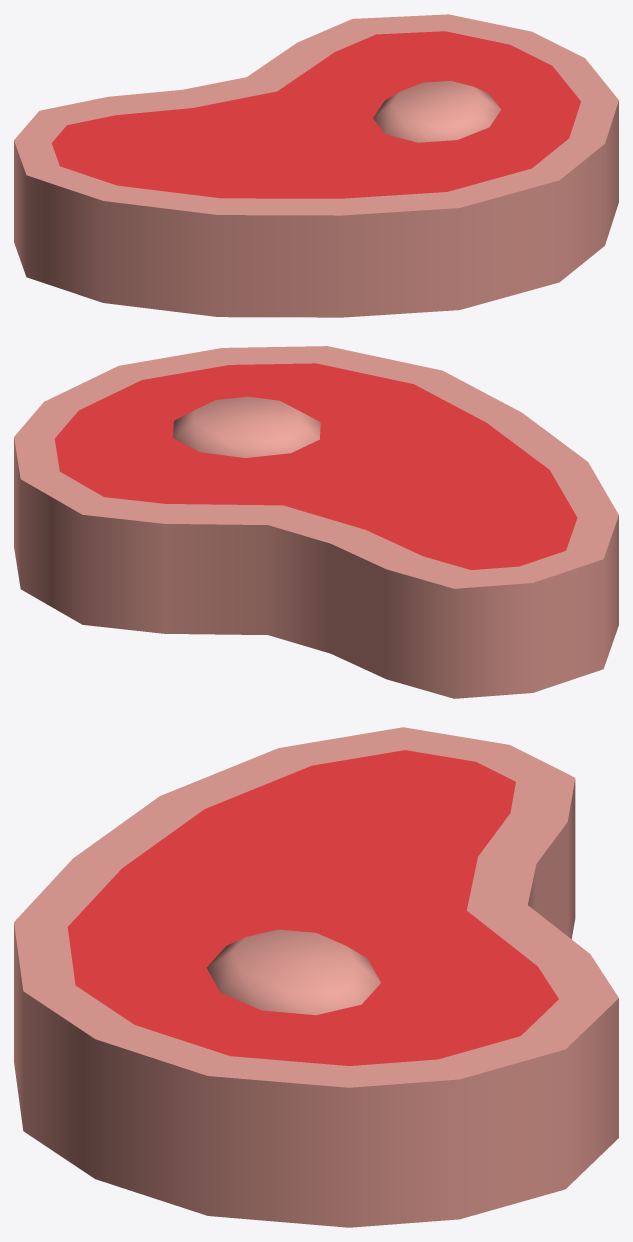
Rendered from meat.fbx.
3 views of the same model, one above another, from view 1: azimuth 30°, elevation 25°; view 2: azimuth 150°, elevation 25°; view 3: azimuth 270°, elevation 25° (orthographic). The views are drawn at different scales.
Visible parts, largest first — view 1: meat; view 2: meat; view 3: meat.
Part boxes in pixels (x1,y1,x2,y2): meat: (14,14,618,317); meat: (14,346,618,698); meat: (14,727,618,1227).
Bounding box in the file's own units: 253 × 57.21 × 179.
